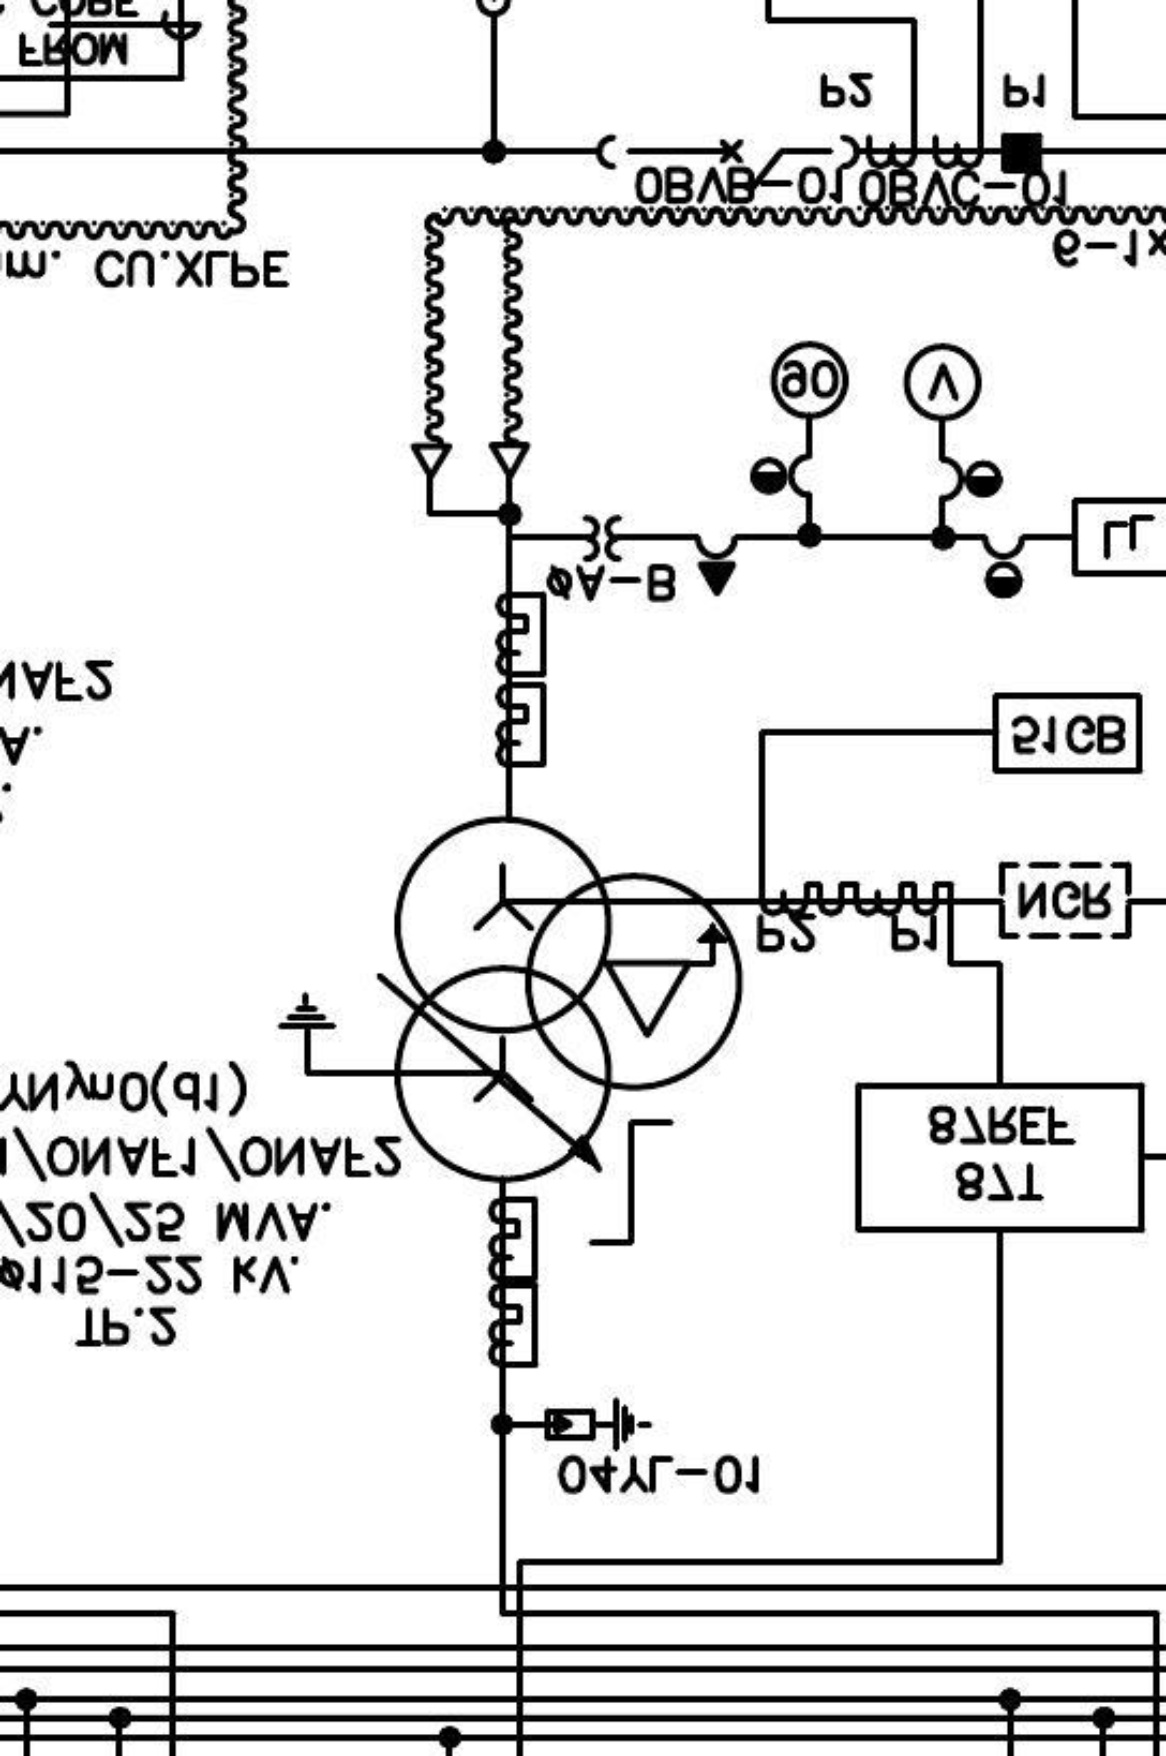11522_tx_ynyn0d1: (392, 813, 746, 1185)
115_la: (543, 1396, 653, 1453)
22_breaker: (595, 134, 860, 191)
terminator_double: (409, 441, 532, 519)
v_m: (901, 341, 984, 424)
